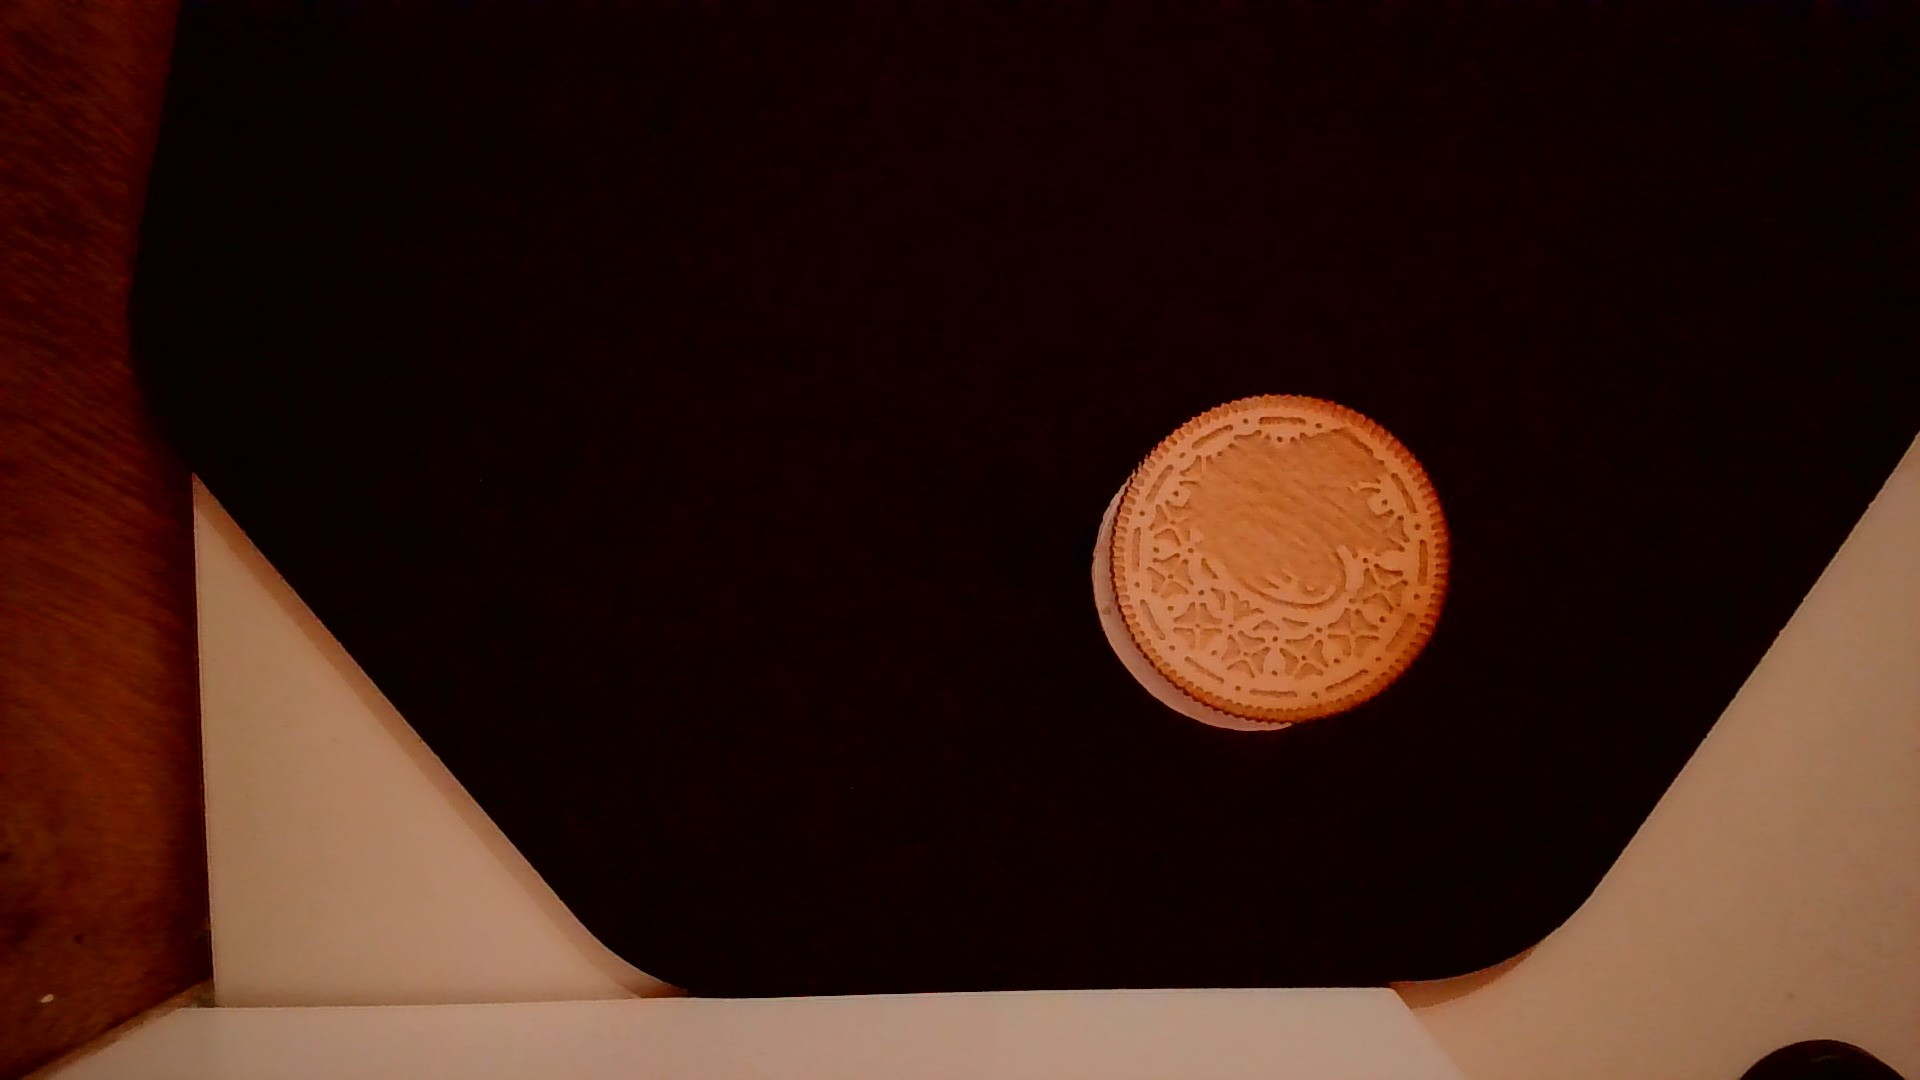Décalé: (1083, 477, 1294, 741)
Effacé: (1163, 425, 1369, 582)
Oréo: (1083, 386, 1453, 741)
